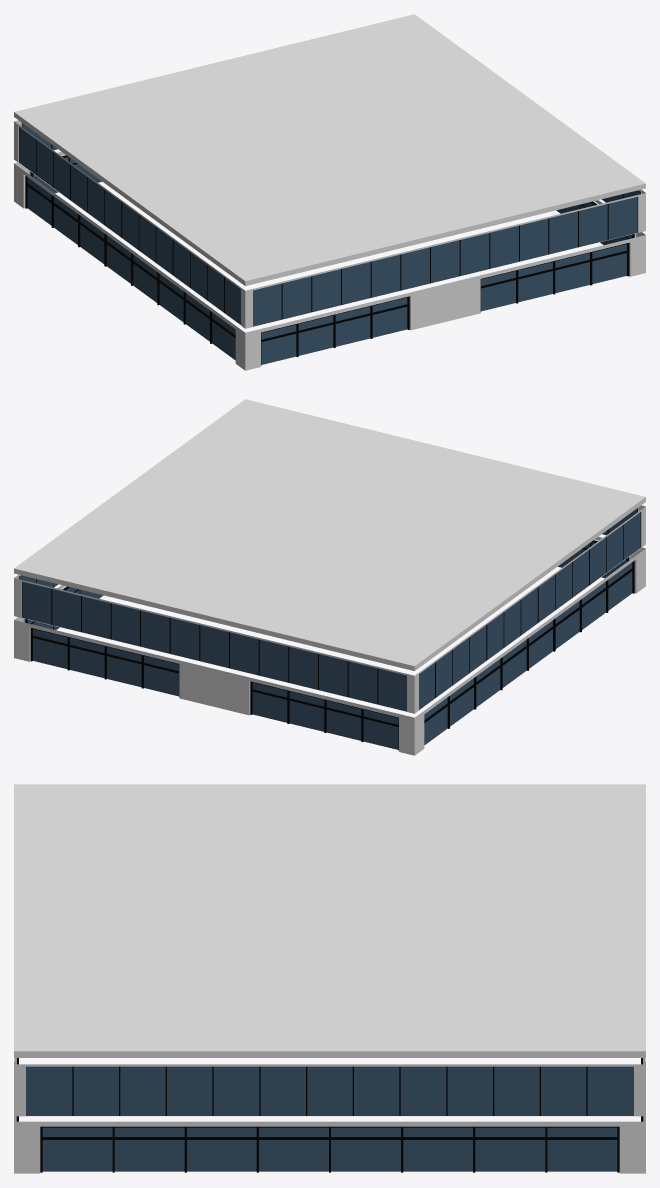
File: BGC 6.fbx
3 views of the same model, one above another, from view 1: azimuth 30°, elevation 25°; view 2: azimuth 150°, elevation 25°; view 3: azimuth 270°, elevation 25° (orthographic). The views are drawn at different scales.
Parts seen in each view (by area): view 1: BGC6_Roof, BGC6_Floor_Windows, BGC6_Base_Windows, BGC6_Base_Main, BGC6_Base_Frame, BGC6_Floor_Main, BGC6_Floor_Frame; view 2: BGC6_Roof, BGC6_Floor_Windows, BGC6_Base_Windows, BGC6_Base_Main, BGC6_Base_Frame, BGC6_Floor_Main, BGC6_Floor_Frame; view 3: BGC6_Roof, BGC6_Floor_Windows, BGC6_Base_Windows, BGC6_Base_Main, BGC6_Base_Frame, BGC6_Floor_Main, BGC6_Floor_Frame.
Boxes of the visible parts, <box> form: BGC6_Roof: <box>14,14,645,285</box>; BGC6_Floor_Windows: <box>19,123,640,326</box>; BGC6_Base_Windows: <box>27,157,632,364</box>; BGC6_Base_Main: <box>14,152,645,370</box>; BGC6_Base_Frame: <box>25,155,634,365</box>; BGC6_Floor_Main: <box>14,120,645,328</box>; BGC6_Floor_Frame: <box>19,123,640,326</box>; BGC6_Roof: <box>14,399,645,670</box>; BGC6_Floor_Windows: <box>19,508,640,711</box>; BGC6_Base_Windows: <box>27,542,632,749</box>; BGC6_Base_Main: <box>14,537,645,755</box>; BGC6_Base_Frame: <box>25,540,634,750</box>; BGC6_Floor_Main: <box>14,505,645,713</box>; BGC6_Floor_Frame: <box>19,508,640,711</box>; BGC6_Roof: <box>14,784,645,1057</box>; BGC6_Floor_Windows: <box>26,1066,633,1115</box>; BGC6_Base_Windows: <box>42,1127,617,1171</box>; BGC6_Base_Main: <box>14,1058,645,1173</box>; BGC6_Base_Frame: <box>16,1058,643,1172</box>; BGC6_Floor_Main: <box>14,1058,645,1116</box>; BGC6_Floor_Frame: <box>15,1058,644,1115</box>.
Size of the model in its own units: 2865 by 612 by 2865.
